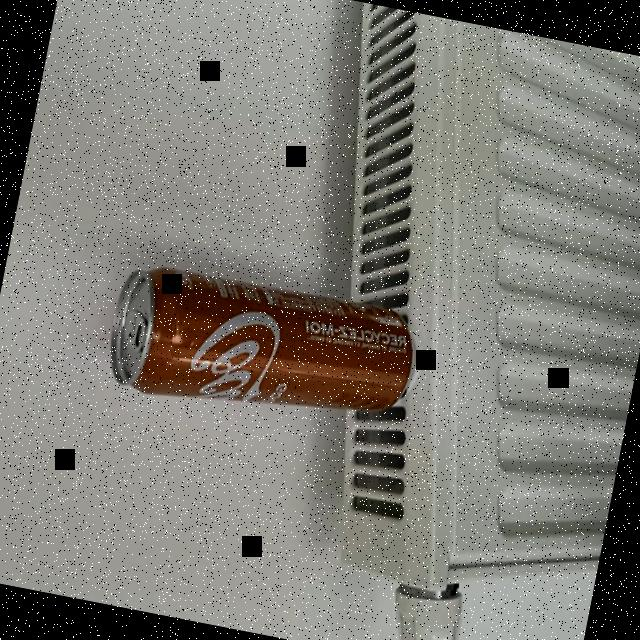can: (90, 252, 440, 452)
